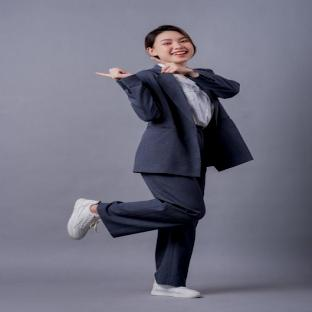Human: (68, 25, 253, 298)
